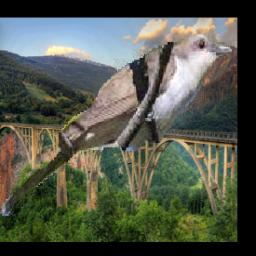Cuckoo: (0, 32, 234, 216)
